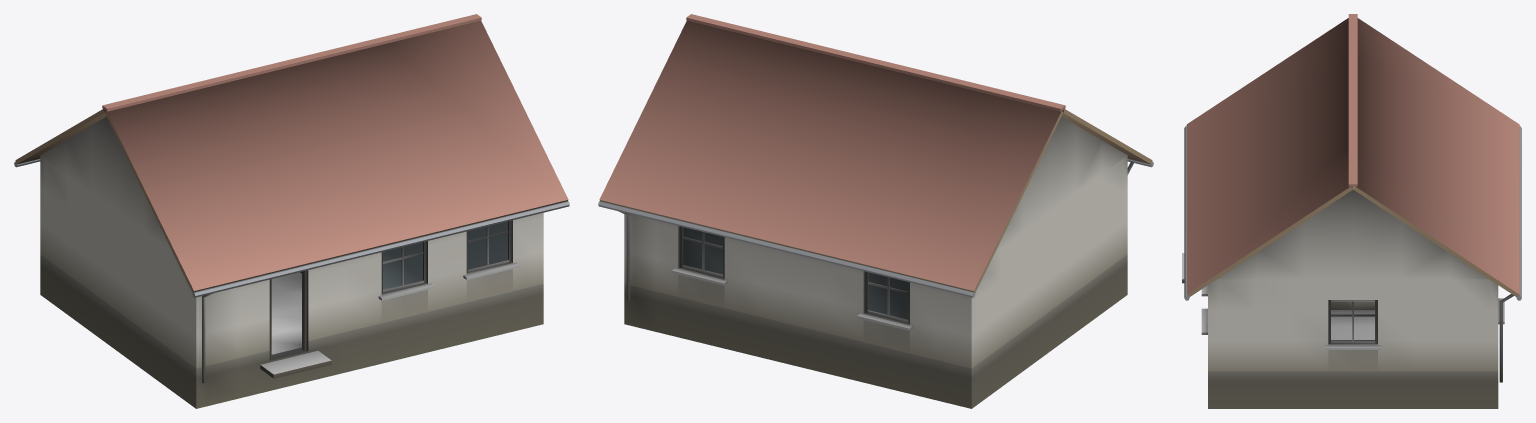
Rendered from clinic.glb.
3 views of the same model, side by side, from view 1: azimuth 30°, elevation 25°; view 2: azimuth 150°, elevation 25°; view 3: azimuth 270°, elevation 25° (orthographic). The views are drawn at different scales.
Visible parts, largest first — view 1: clinic; view 2: clinic; view 3: clinic.
Part boxes in pixels (x1,y1,x2,y2): clinic: [14, 14, 569, 408]; clinic: [598, 14, 1153, 408]; clinic: [1182, 14, 1521, 408].
Bounding box in the file's own units: 9.7 × 6.14 × 8.19.
